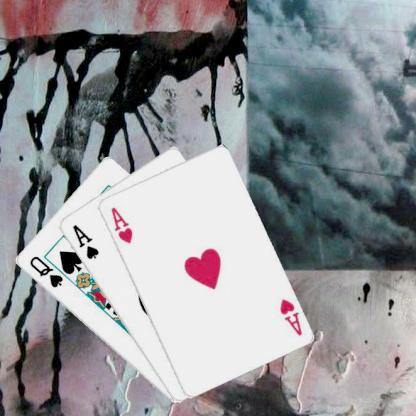AH: (107, 204, 134, 245), (276, 296, 303, 337)
AS: (69, 222, 100, 261)
QS: (26, 253, 64, 289)
